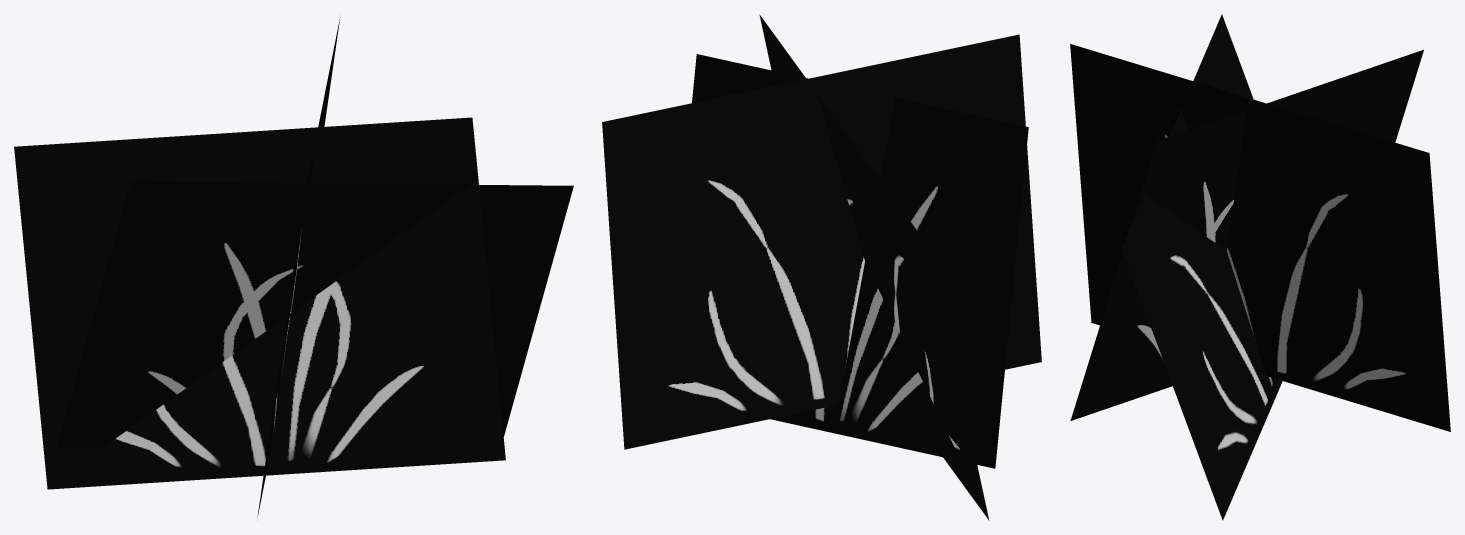
File: grass01.FBX
3 views of the same model, side by side, from view 1: azimuth 30°, elevation 25°; view 2: azimuth 150°, elevation 25°; view 3: azimuth 270°, elevation 25° (orthographic). The views are drawn at different scales.
Parts seen in each view (by area): view 1: Plane477, Plane007, Plane476; view 2: Plane476, Plane007, Plane477; view 3: Plane476, Plane007, Plane477.
Part boxes in pixels (left/top/right/bottom): Plane477: left=14, top=117, right=505, bottom=489; Plane007: left=56, top=181, right=573, bottom=448; Plane476: left=257, top=17, right=340, bottom=518; Plane476: left=602, top=34, right=1041, bottom=449; Plane007: left=692, top=54, right=1028, bottom=468; Plane477: left=759, top=14, right=989, bottom=520; Plane476: left=1070, top=44, right=1450, bottom=431; Plane007: left=1121, top=14, right=1282, bottom=520; Plane477: left=1070, top=49, right=1423, bottom=420.
Size of the model in its own units: 137 by 119 by 117.
